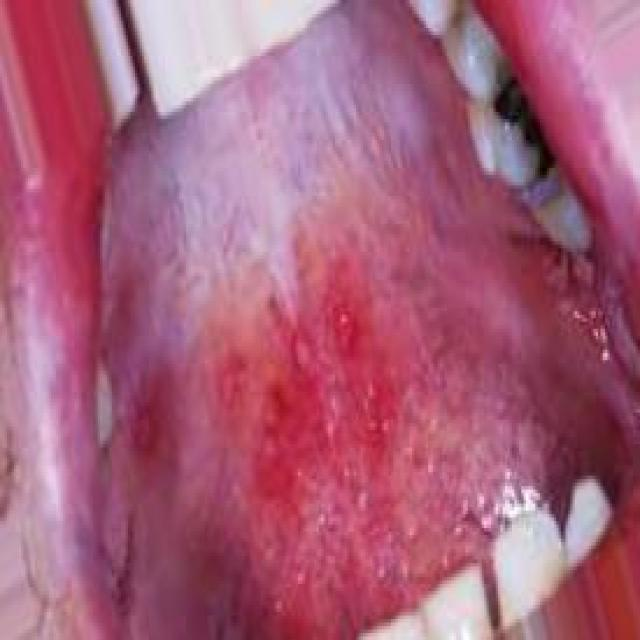caries: (466, 54, 567, 192)
